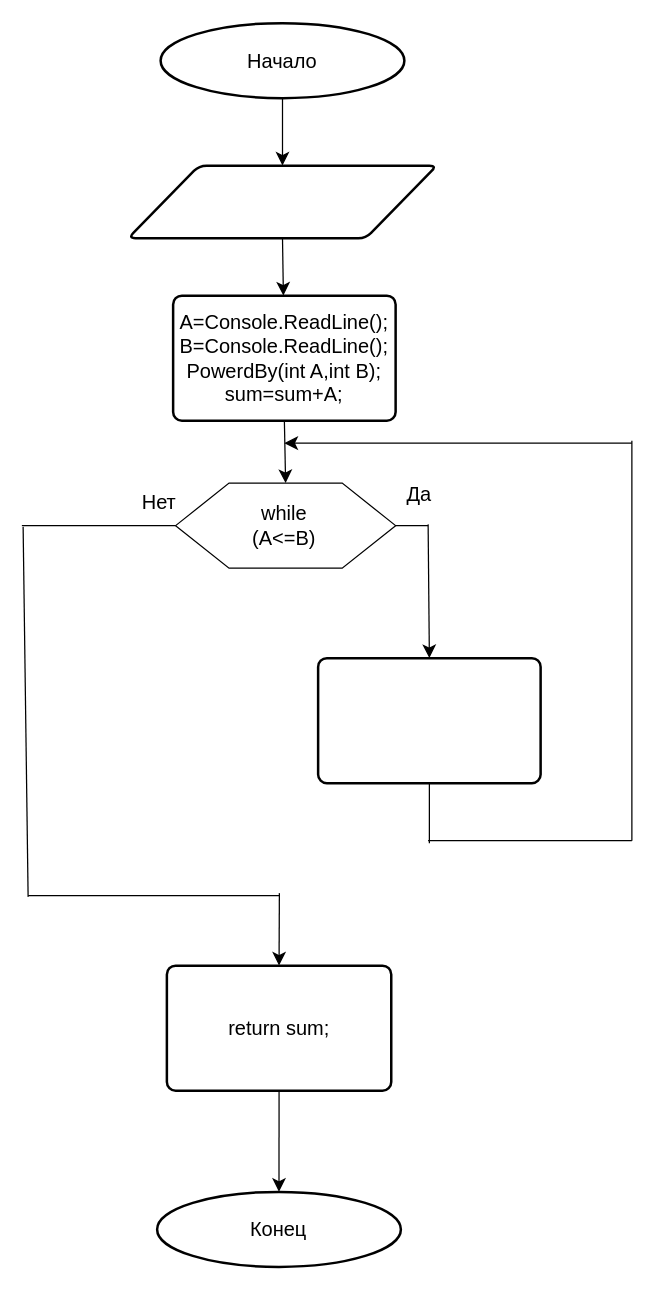
Image size: 655x1289. Some labels were removed from this diagram. The shapes that lost their labels are listed below. From the top down, each one's box as (x1, y1, x2, y2) in pixels, then its label:
(126, 164, 438, 239): Ввод A,B
(316, 656, 541, 784): sum=sum+A; A++; PowerdBy(A,B)
